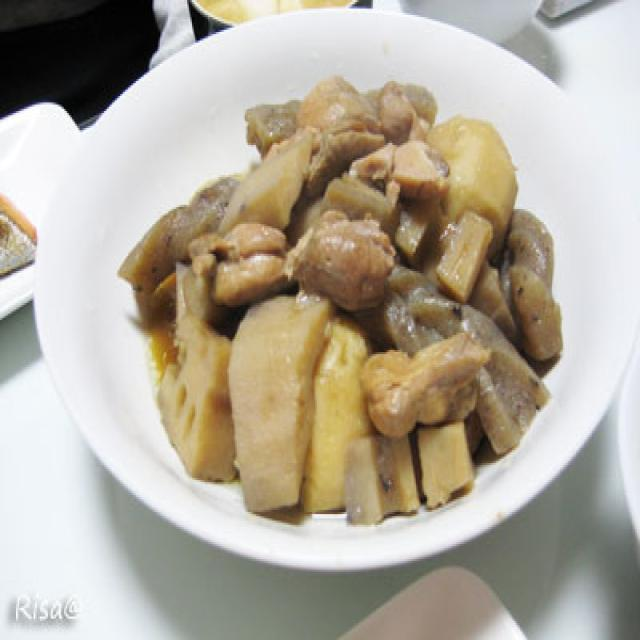鸡肉料理 含炸鸡: (117, 66, 557, 525)
